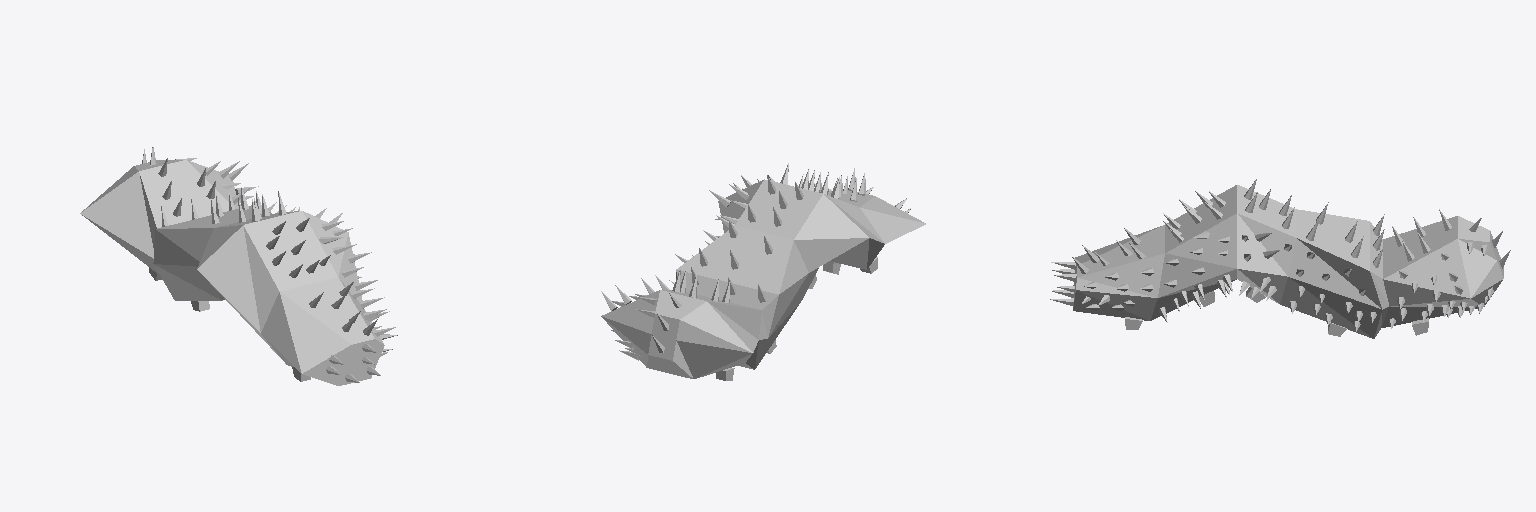
Rendered from spiny_caters.obj.
3 views of the same model, side by side, from view 1: azimuth 30°, elevation 25°; view 2: azimuth 150°, elevation 25°; view 3: azimuth 270°, elevation 25° (orthographic).
Visible parts, largest first — view 1: spiny_cater; view 2: spiny_cater; view 3: spiny_cater.
Part boxes in pixels (left/top/right/bottom): spiny_cater: left=80, top=147, right=397, bottom=385; spiny_cater: left=601, top=163, right=925, bottom=380; spiny_cater: left=1050, top=179, right=1510, bottom=338.
Size of the model in its own units: 1.66 by 1.4 by 4.11.